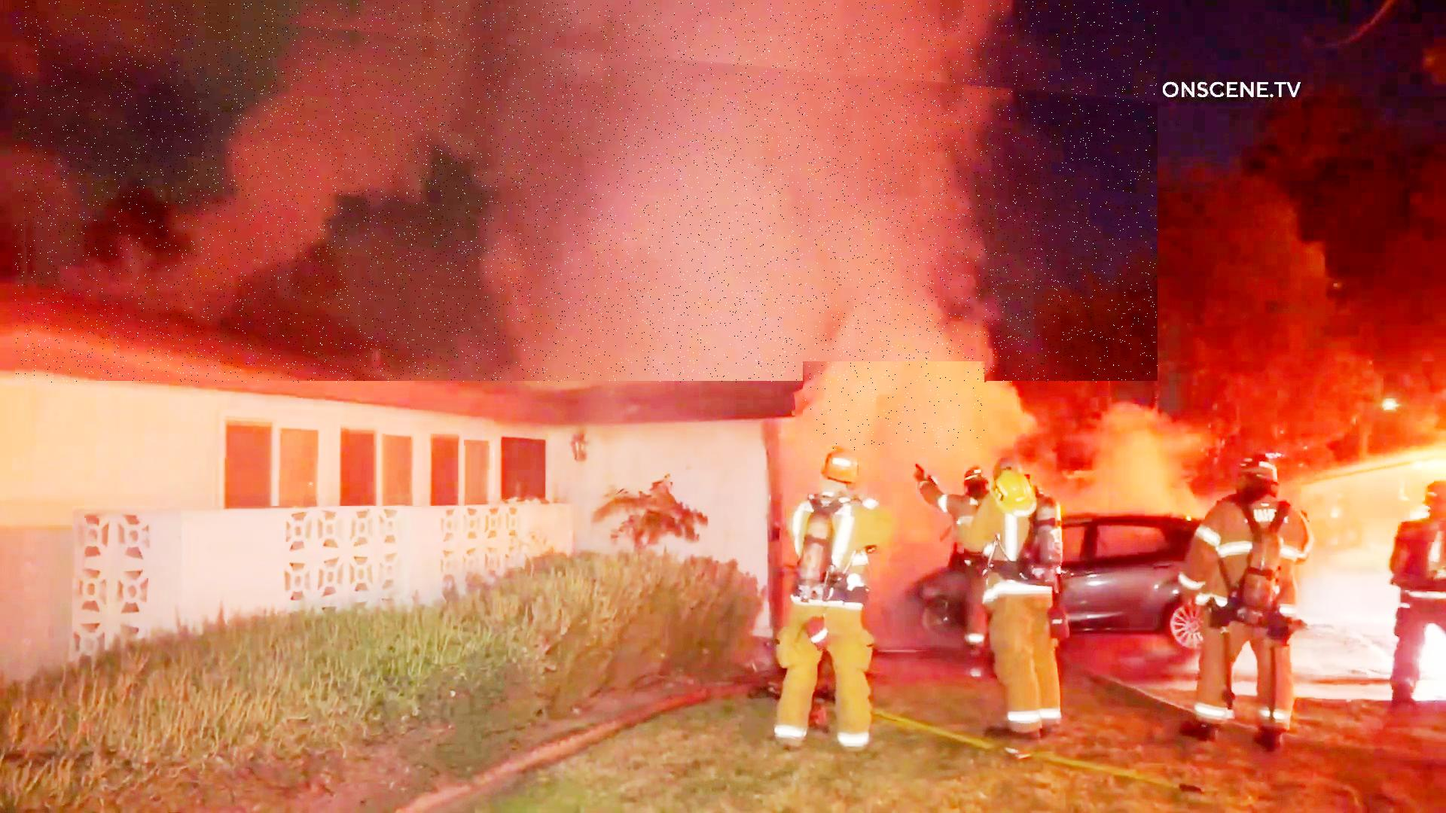smoke: (15, 2, 1158, 383), (804, 363, 987, 450)
